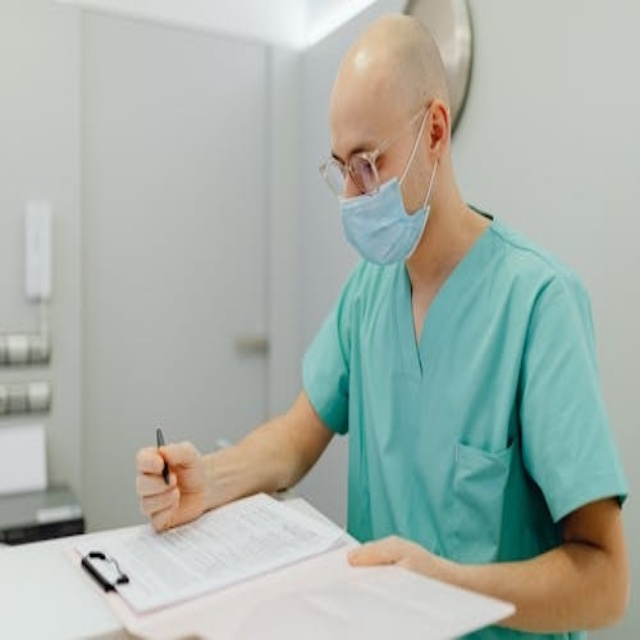Gafas: (320, 105, 429, 197)
Mascara: (336, 112, 437, 267)
Sin_guantes: (136, 438, 208, 533)
